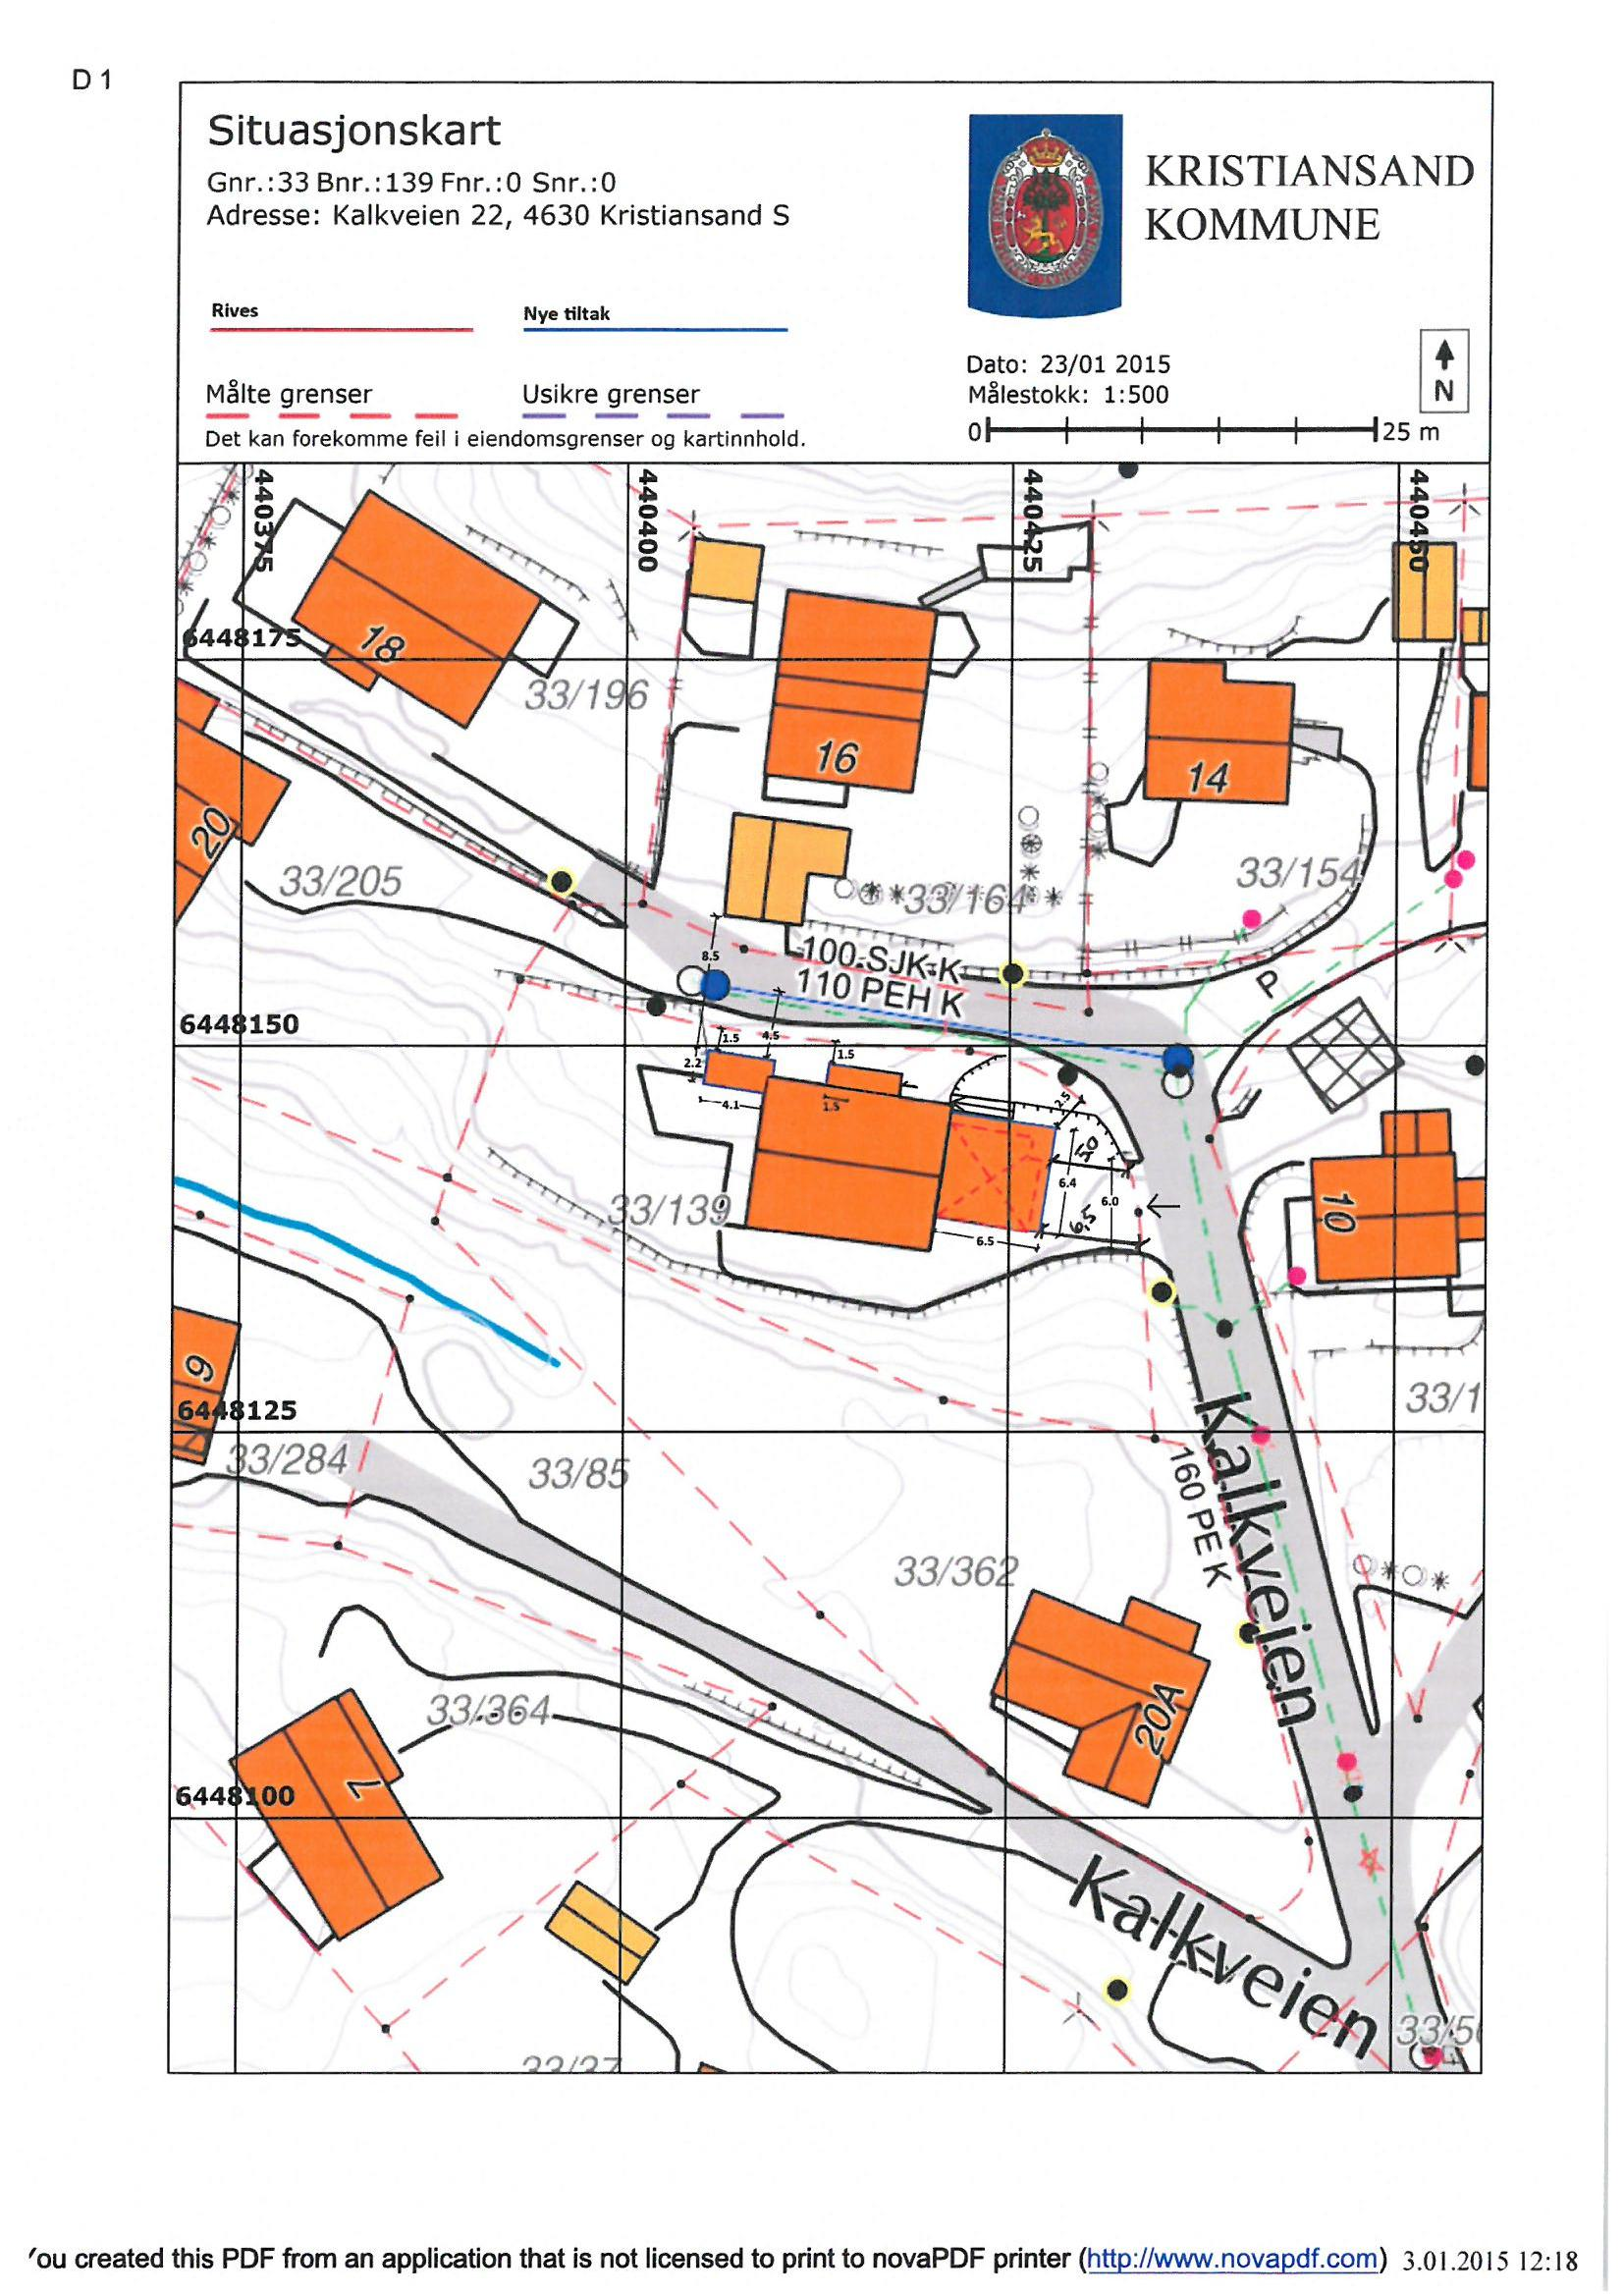situasjonskart: (186, 455, 1492, 2073)
